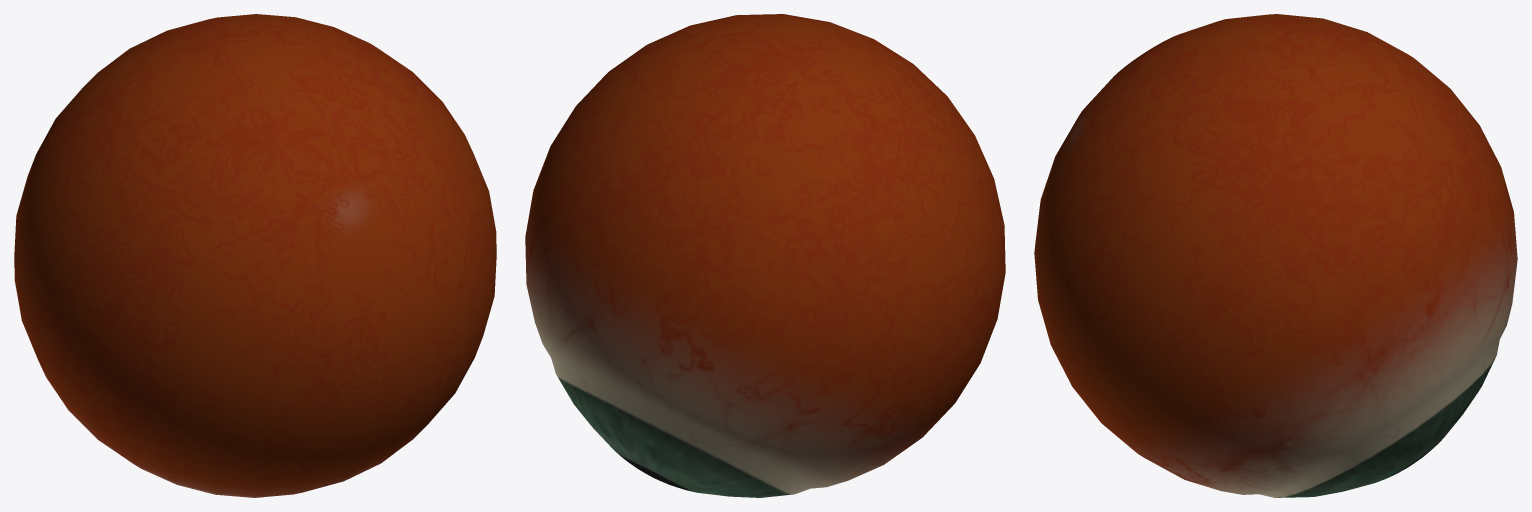
Rendered from ojo.fbx.
3 renders of one model, left to right at view 1: azimuth 30°, elevation 25°; view 2: azimuth 150°, elevation 25°; view 3: azimuth 270°, elevation 25°, orthographic.
Visible parts, largest first — view 1: Human eye; view 2: Human eye; view 3: Human eye.
Boxes of the visible parts, <box> form: Human eye: <box>14,14,496,497</box>; Human eye: <box>525,14,1005,497</box>; Human eye: <box>1034,14,1517,497</box>.
Size of the model in its own units: 73.42 by 73.36 by 73.27.
